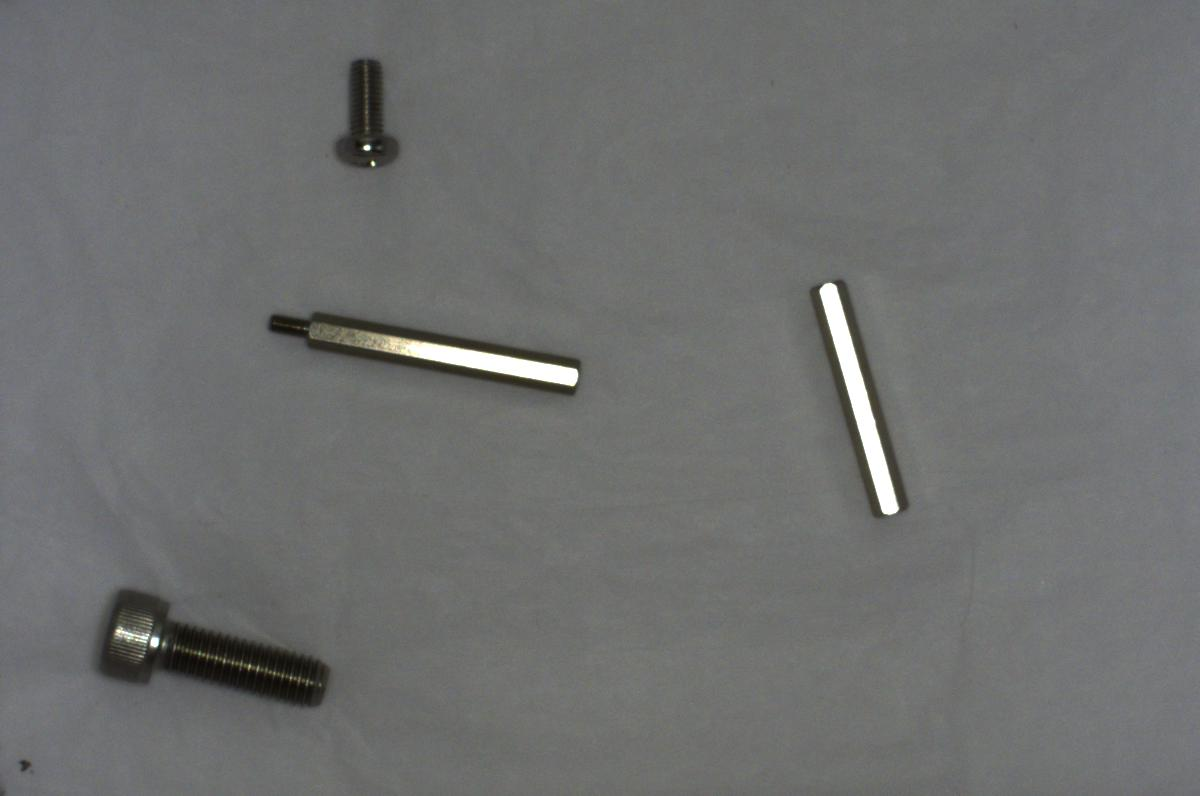Double hexagonal column: (804, 267, 913, 522)
Hexagon screw: (87, 581, 334, 714)
Hexagonal steel column: (255, 298, 587, 405)
Round head screw: (324, 54, 408, 176)
